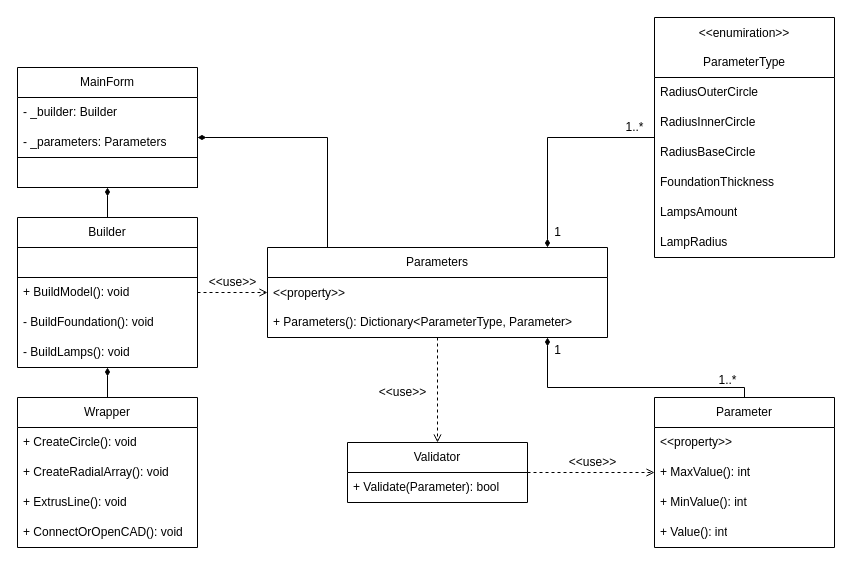
The diagram is 852 pixels wide and 565 high, and some of its shapes have lost their labels. Each missing label, with the centre of its shape:
- _wrapper: Wrapper: pixel 107 262
- BuildModel(): void: pixel 107 172
